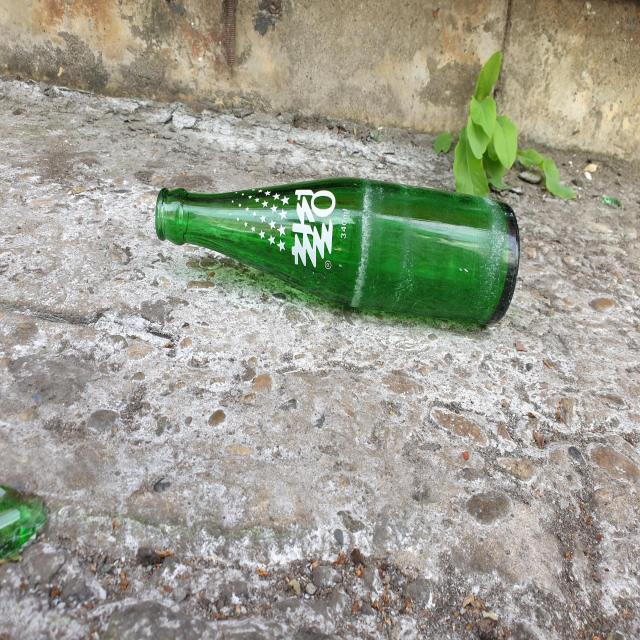glass: (155, 177, 520, 325)
